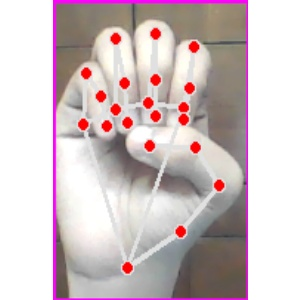E: (53, 3, 248, 300)
